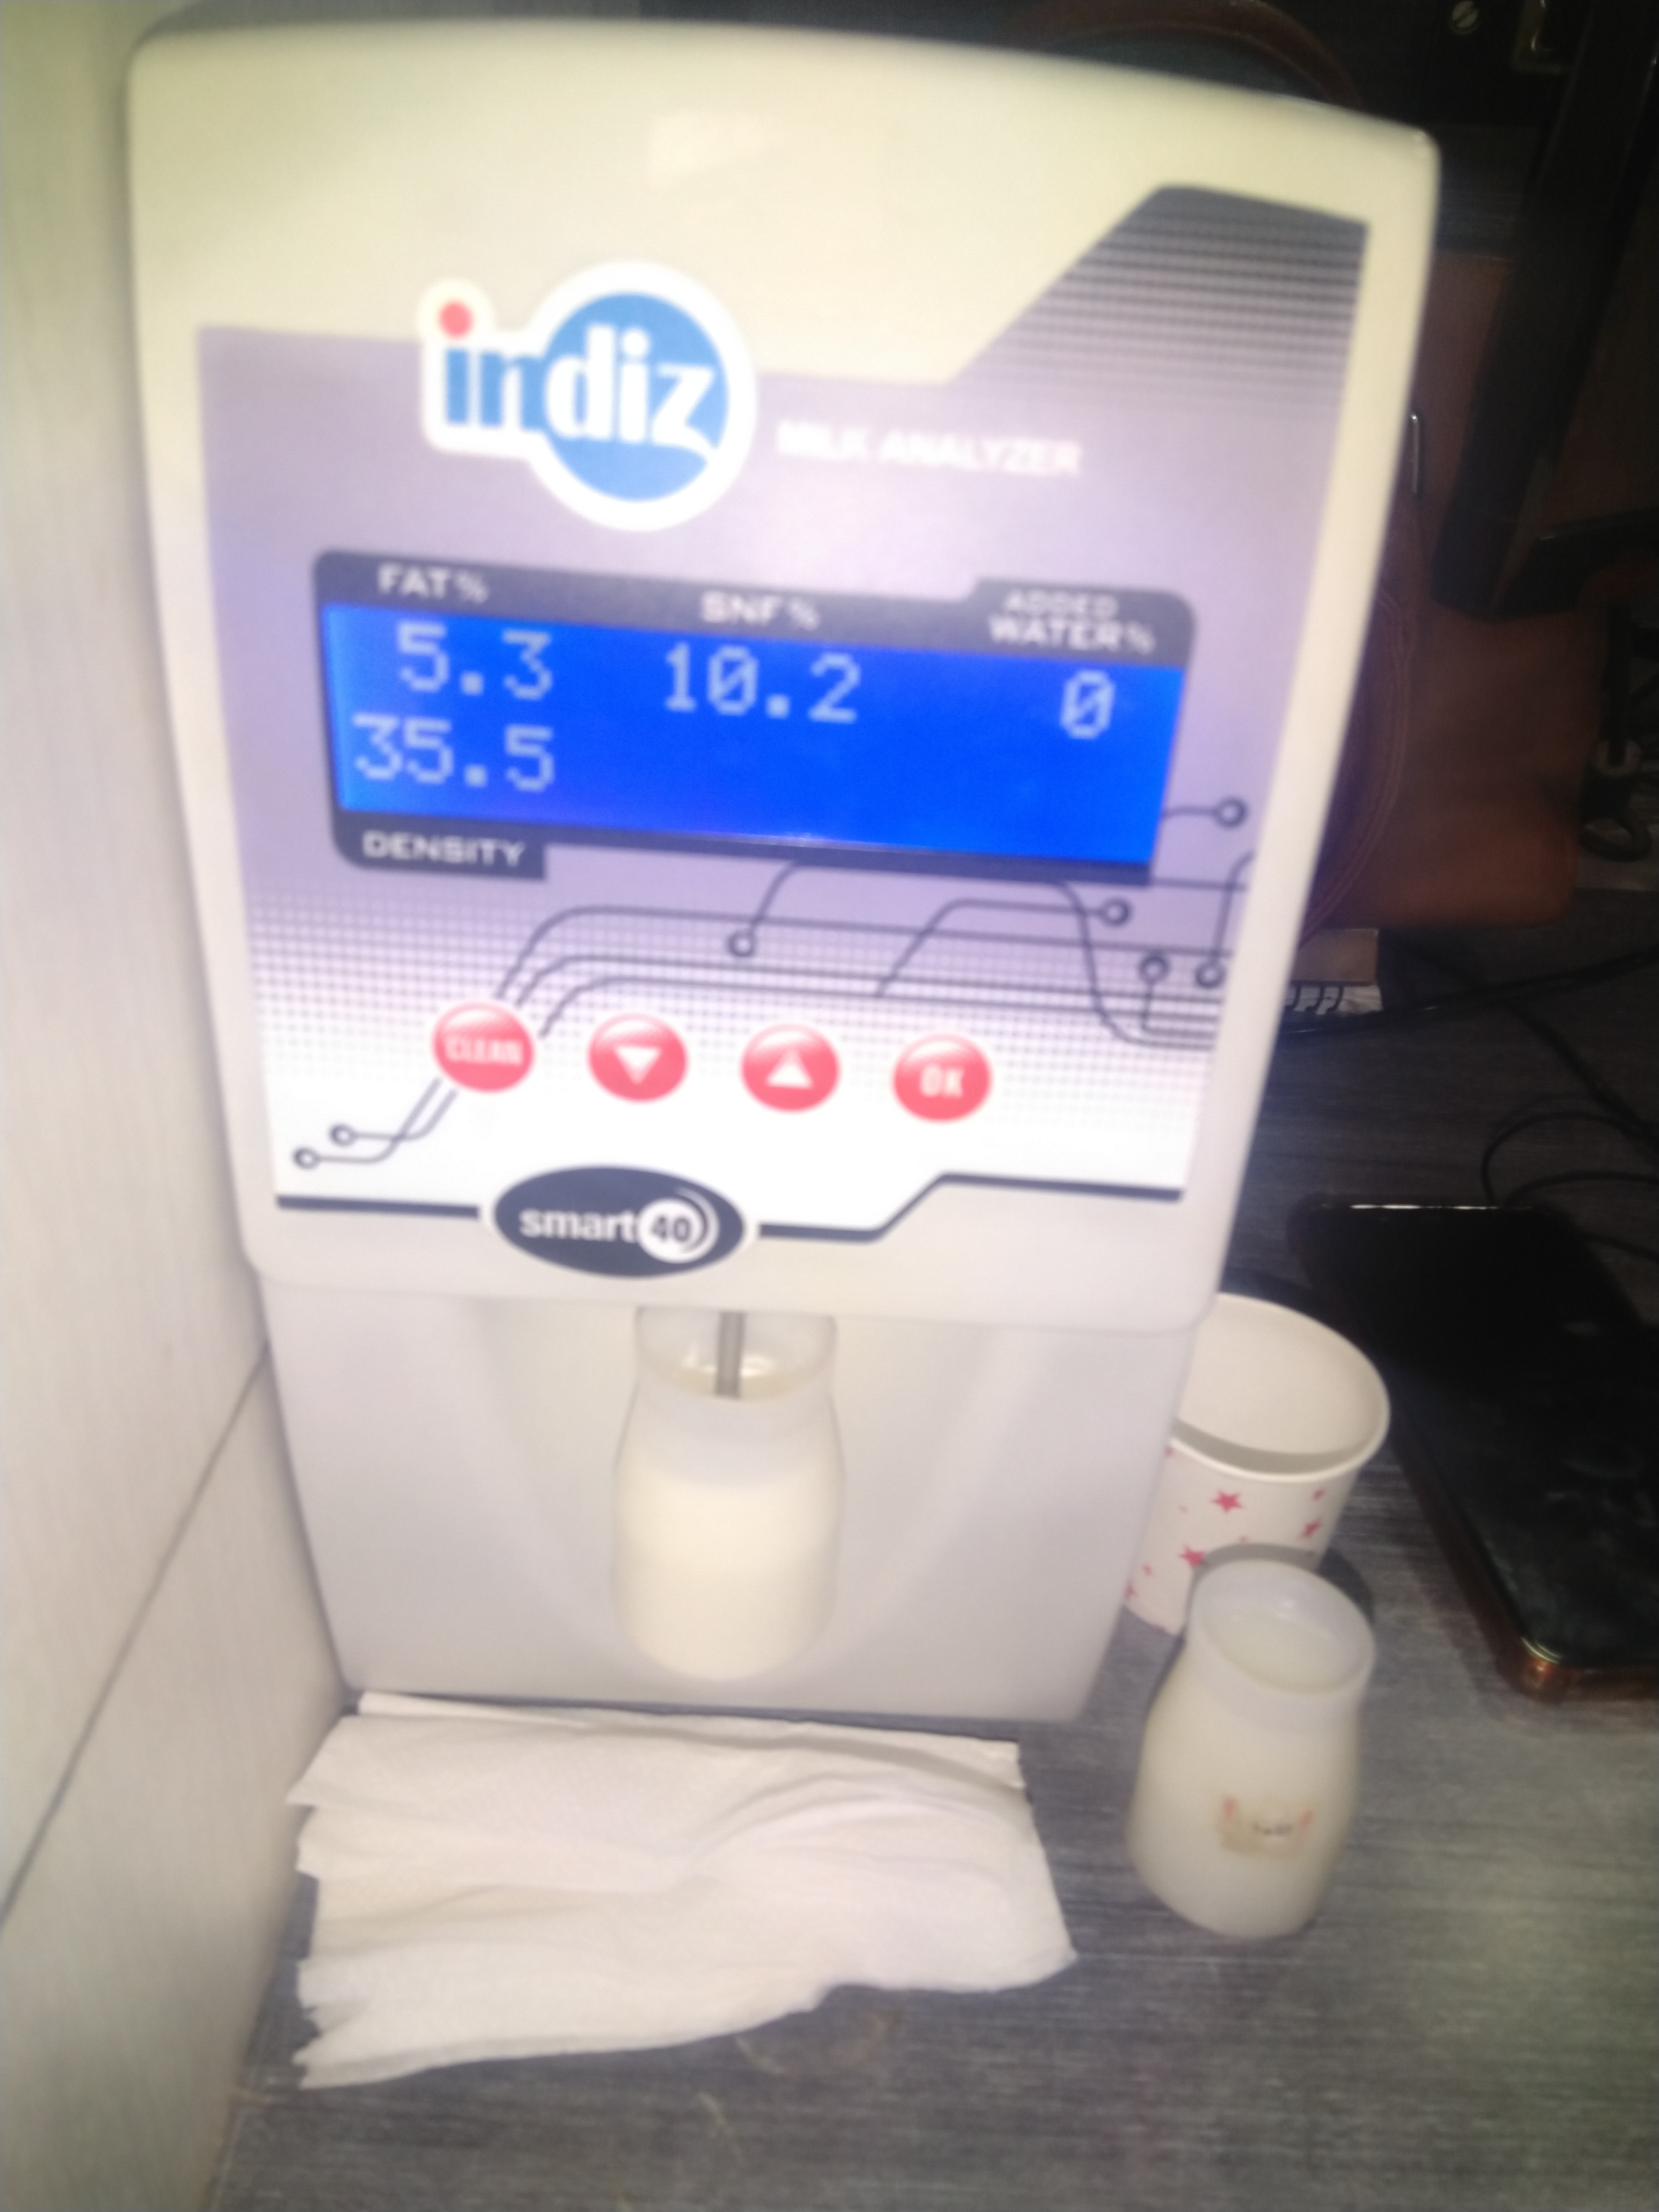lcd: (324, 585, 1187, 883)
